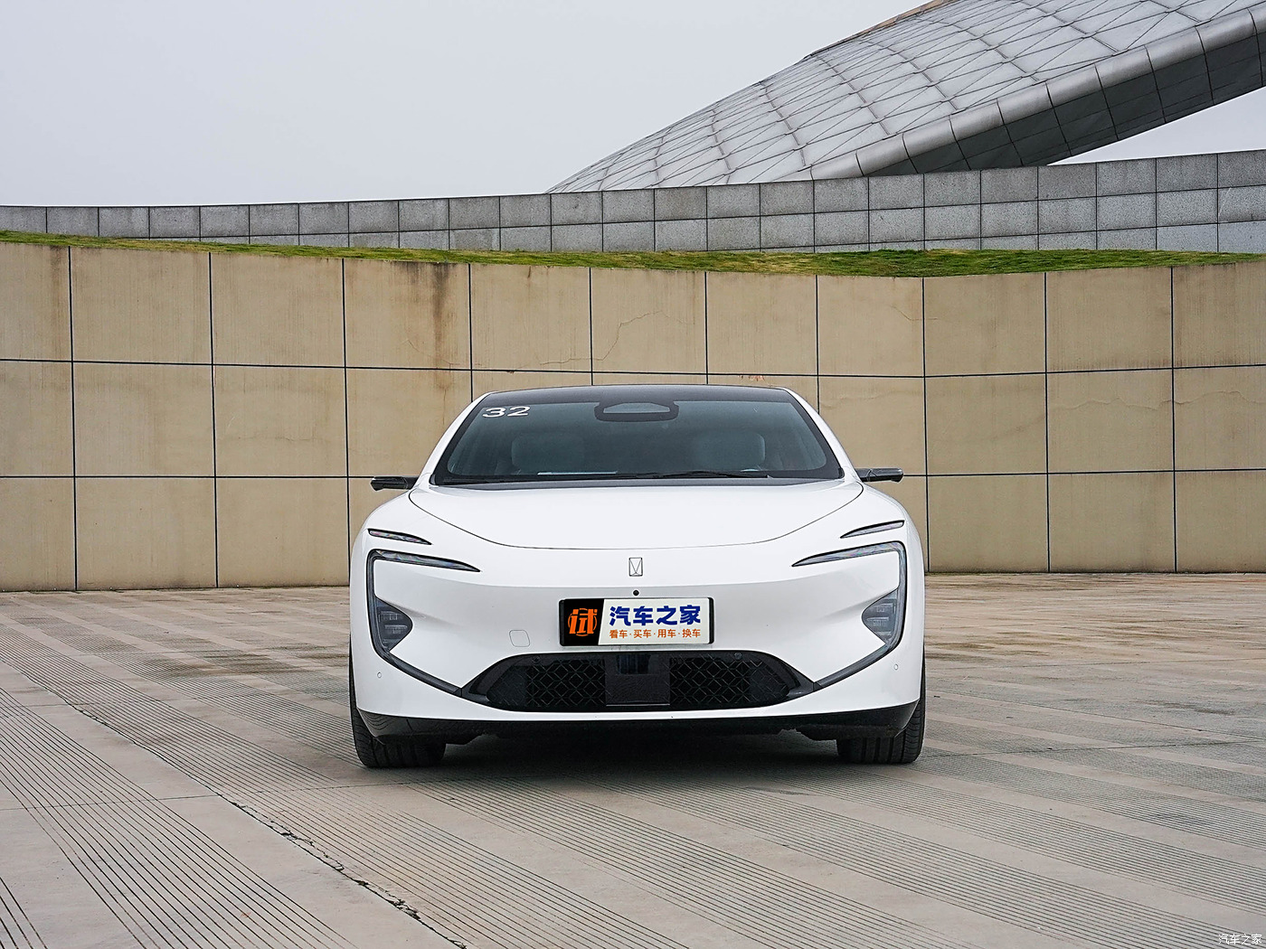AVATR: (629, 558, 643, 577)
